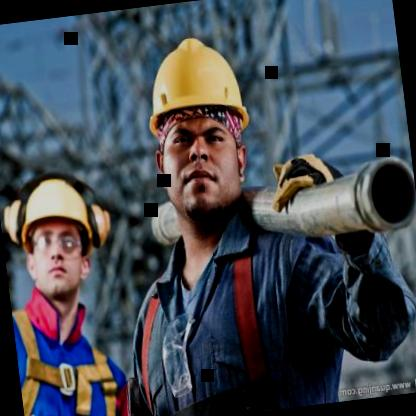helmet: (130, 2, 276, 258), (0, 156, 119, 316)
